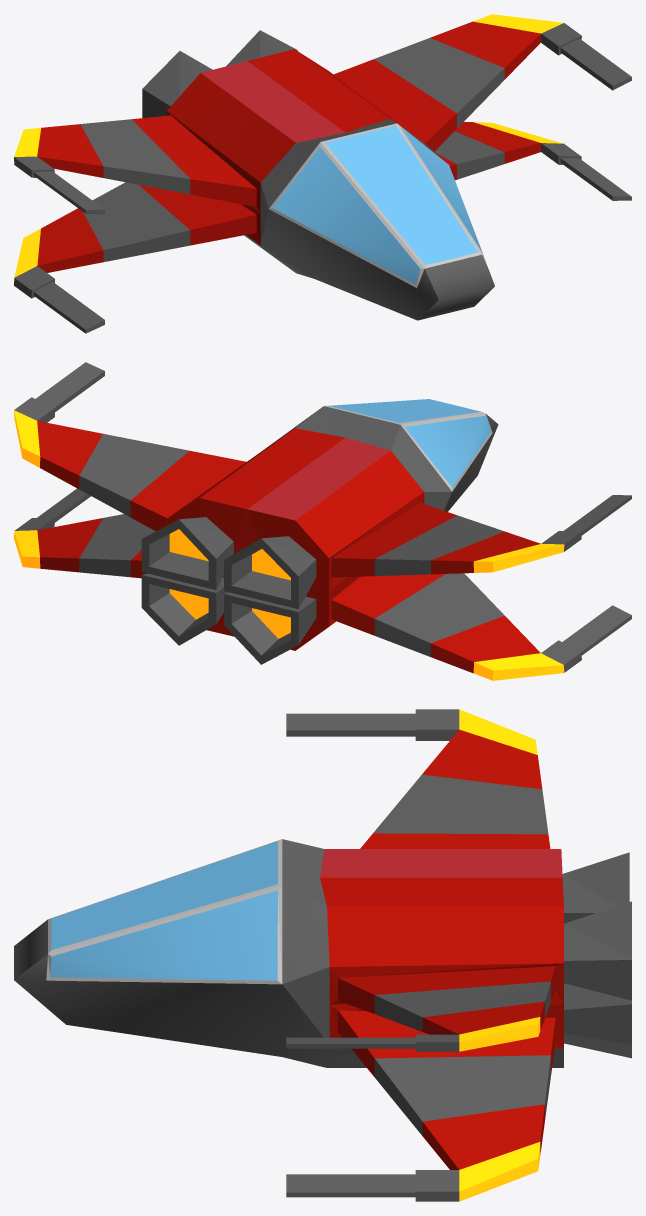
File: RedXship.glb
3 views of the same model, one above another, from view 1: azimuth 30°, elevation 25°; view 2: azimuth 150°, elevation 25°; view 3: azimuth 270°, elevation 25° (orthographic). The views are drawn at different scales.
Visible parts, largest first — view 1: Box003_03 - Default_0, Box003_Material #25_0, Box003_01 - Default_0, Box003_Material #26_0, Box003_08 - Default_0, Box003_02 - Default_0; view 2: Box003_03 - Default_0, Box003_Material #25_0, Box003_02 - Default_0, Box003_01 - Default_0, Box003_Material #26_0, Box003_08 - Default_0; view 3: Box003_03 - Default_0, Box003_Material #25_0, Box003_01 - Default_0, Box003_Material #26_0, Box003_02 - Default_0, Box003_08 - Default_0.
Part boxes in pixels (x1,y1,x2,y2): Box003_03 - Default_0: [14, 23, 631, 333]; Box003_Material #25_0: [37, 21, 540, 272]; Box003_01 - Default_0: [272, 126, 482, 283]; Box003_Material #26_0: [201, 61, 344, 142]; Box003_08 - Default_0: [269, 123, 488, 287]; Box003_02 - Default_0: [14, 14, 563, 277]; Box003_03 - Default_0: [14, 362, 631, 672]; Box003_Material #25_0: [37, 421, 540, 673]; Box003_02 - Default_0: [14, 410, 564, 680]; Box003_01 - Default_0: [329, 399, 490, 487]; Box003_Material #26_0: [248, 437, 390, 520]; Box003_08 - Default_0: [324, 403, 492, 491]; Box003_03 - Default_0: [14, 709, 631, 1201]; Box003_Material #25_0: [320, 729, 563, 1169]; Box003_01 - Default_0: [50, 841, 277, 980]; Box003_Material #26_0: [320, 849, 562, 877]; Box003_02 - Default_0: [459, 709, 540, 1201]; Box003_08 - Default_0: [46, 839, 282, 984].
Bounding box in the file's own units: 28.56 × 7.04 × 22.4.
